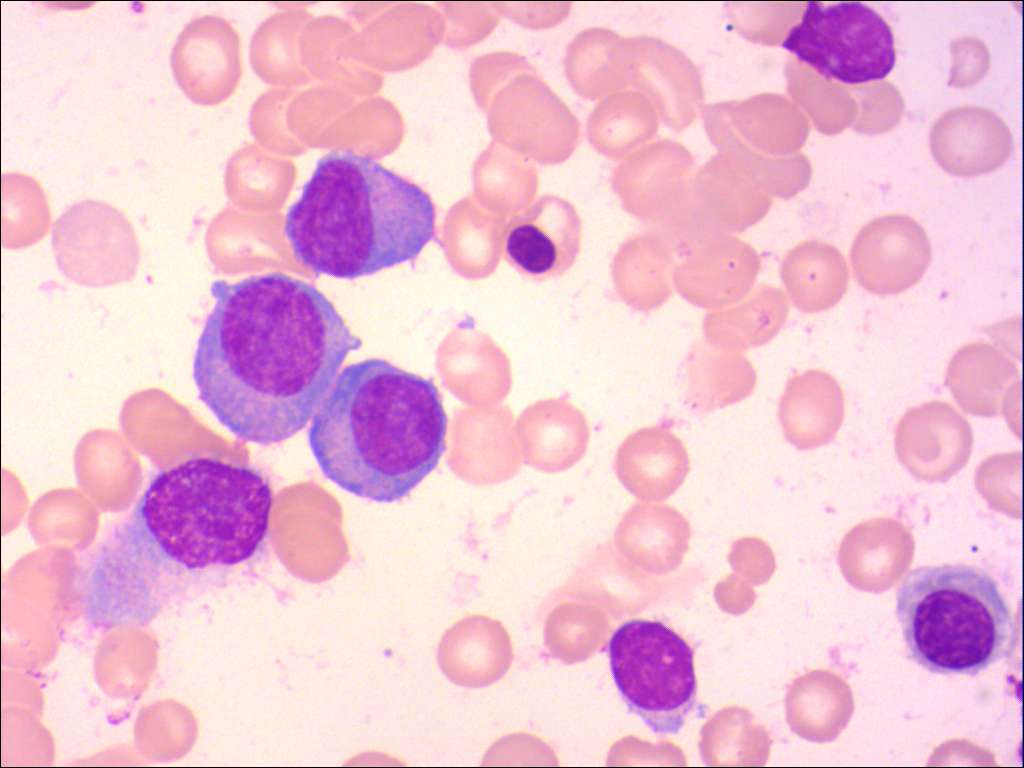23: (890, 559, 1015, 684)
24: (494, 215, 568, 282)
32: (601, 617, 703, 740)
51: (187, 267, 365, 451), (301, 354, 453, 508), (280, 145, 442, 284)
x: (65, 451, 278, 640), (778, 1, 899, 88)
